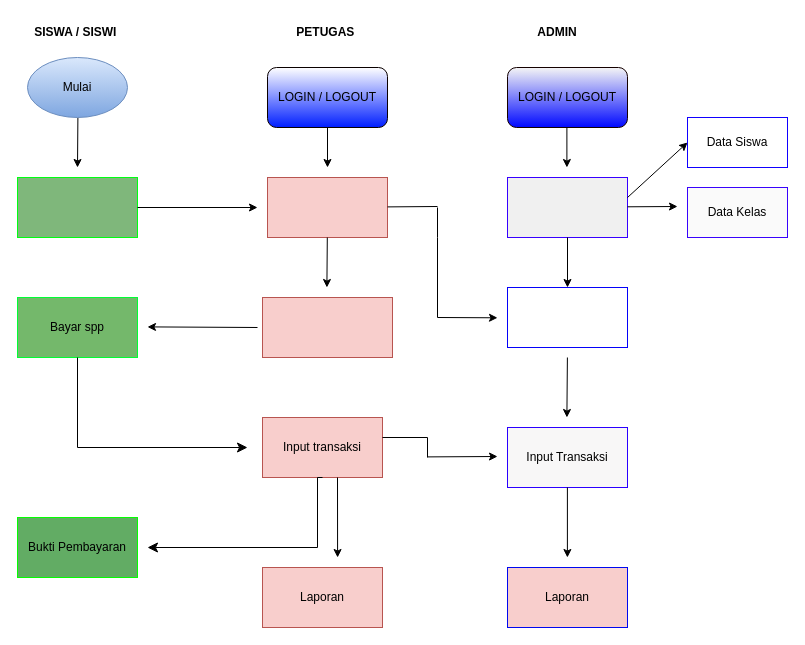
This 805x645 diagram has some shape labels left out. The shapes that lost their labels are listed below. From the top down, each one's centre as x and y in pixels, then its label:
pixel 77 207: Memberikan Nis
pixel 327 207: Cek Data Siswa
pixel 567 207: Input data
pixel 327 327: Tambah Pembayaran
pixel 567 317: Mencari data
